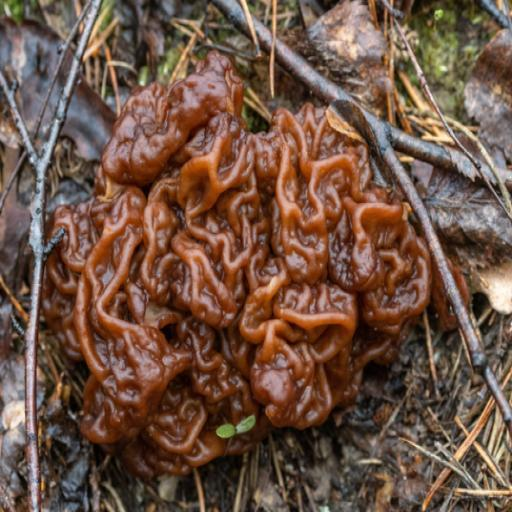mushroom: (50, 56, 429, 465)
